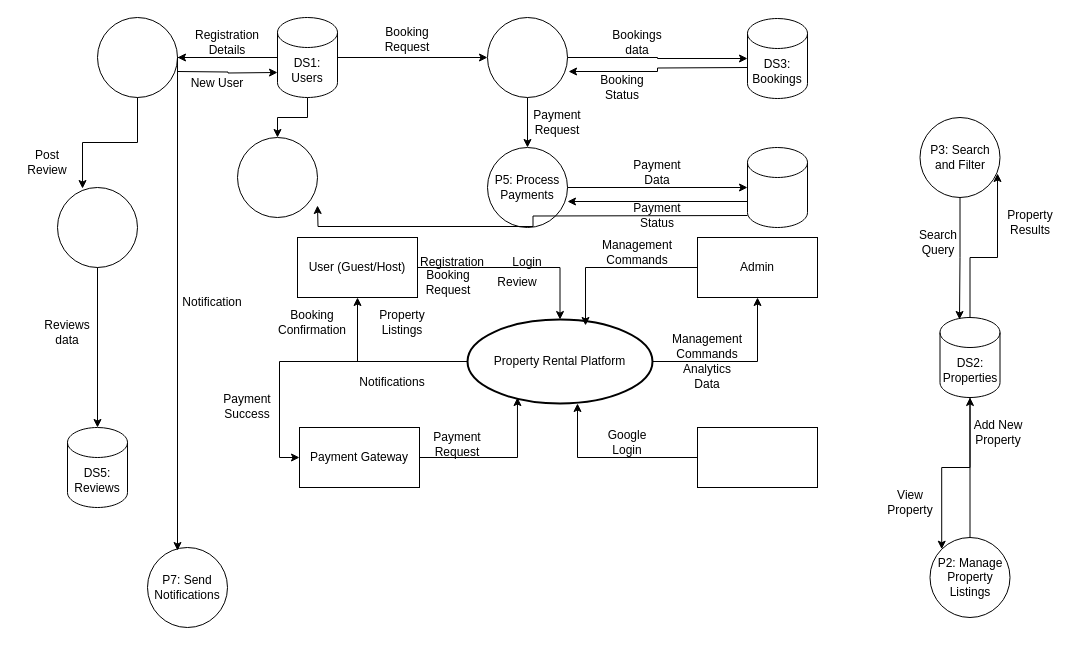
Image size: 1077x645. Some labels were removed from this diagram. The shapes that lost their labels are listed below. From the top down, each one's box as (x1, y1, x2, y2) in pixels, then its label:
(96, 16, 178, 98): P1: Manage User Account
(486, 16, 568, 98): P4: Manage Bookings
(236, 136, 318, 218): P8: Admin Dashboard
(746, 146, 808, 228): DS4: Payments
(56, 186, 138, 268): P6: Manage Reviews
(696, 426, 818, 488): OAuth Provider
